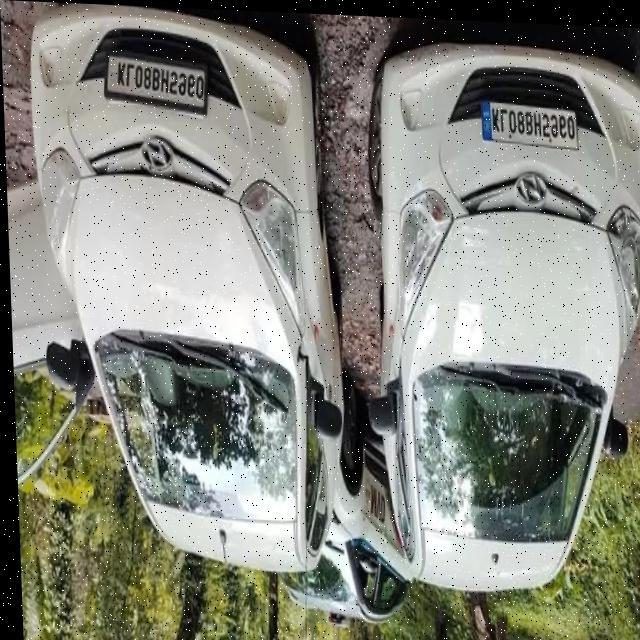plate: (101, 43, 211, 122), (475, 99, 581, 147)
